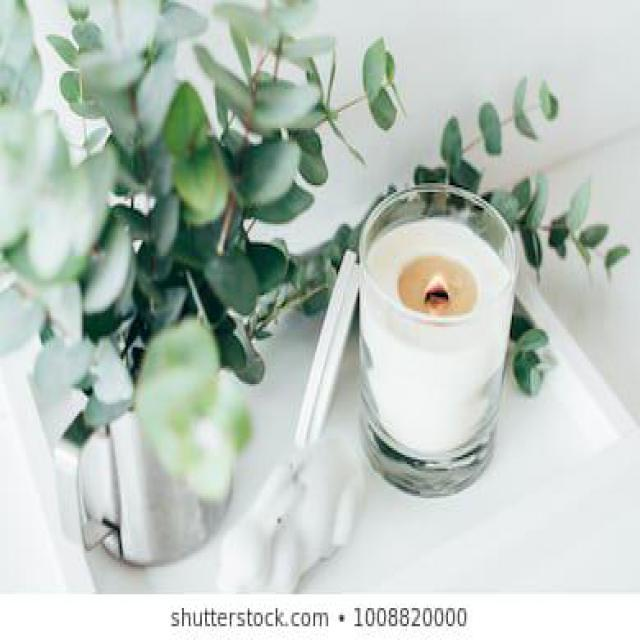Fire: (423, 272, 450, 304)
